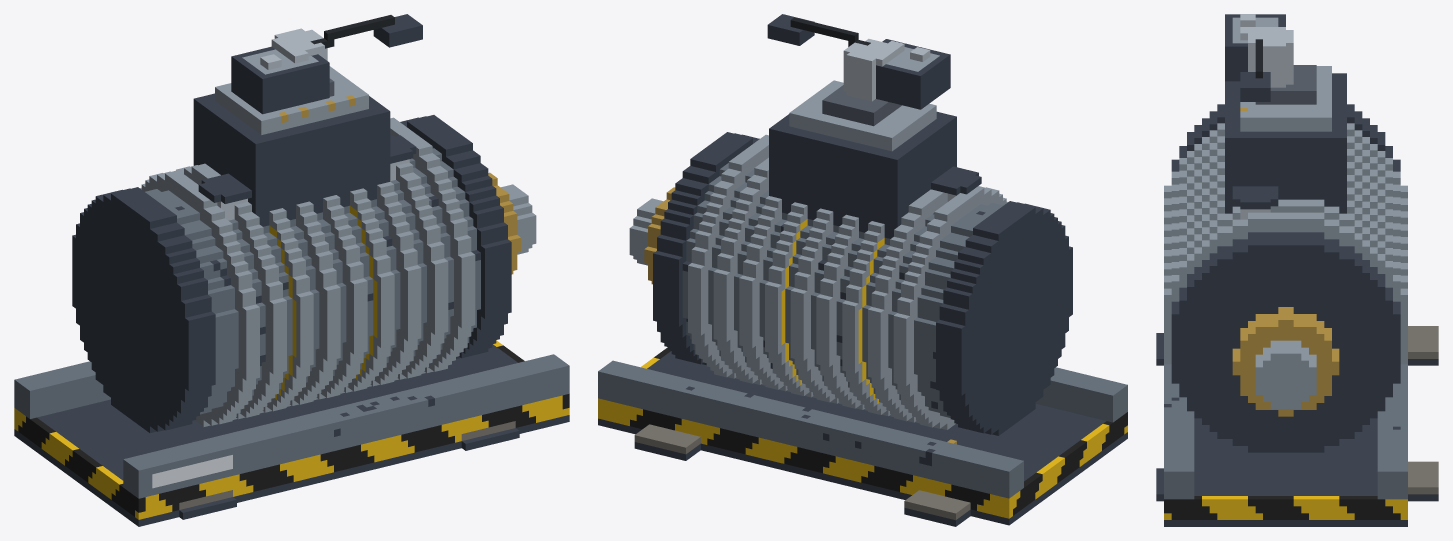
Rendered from motor.obj.
The picture shows the model from 3 angles, left to right: view 1: azimuth 30°, elevation 25°; view 2: azimuth 150°, elevation 25°; view 3: azimuth 270°, elevation 25°; orthographic projection. The views are drawn at different scales.
Parts seen in each view (by area): view 1: motor; view 2: motor; view 3: motor.
Boxes of the visible parts, x1,y1,x2,y2 form: motor: [14, 14, 569, 526]; motor: [598, 14, 1127, 526]; motor: [1156, 14, 1438, 526].
Bounding box in the file's own units: 2.06 × 1.78 × 1.16.
